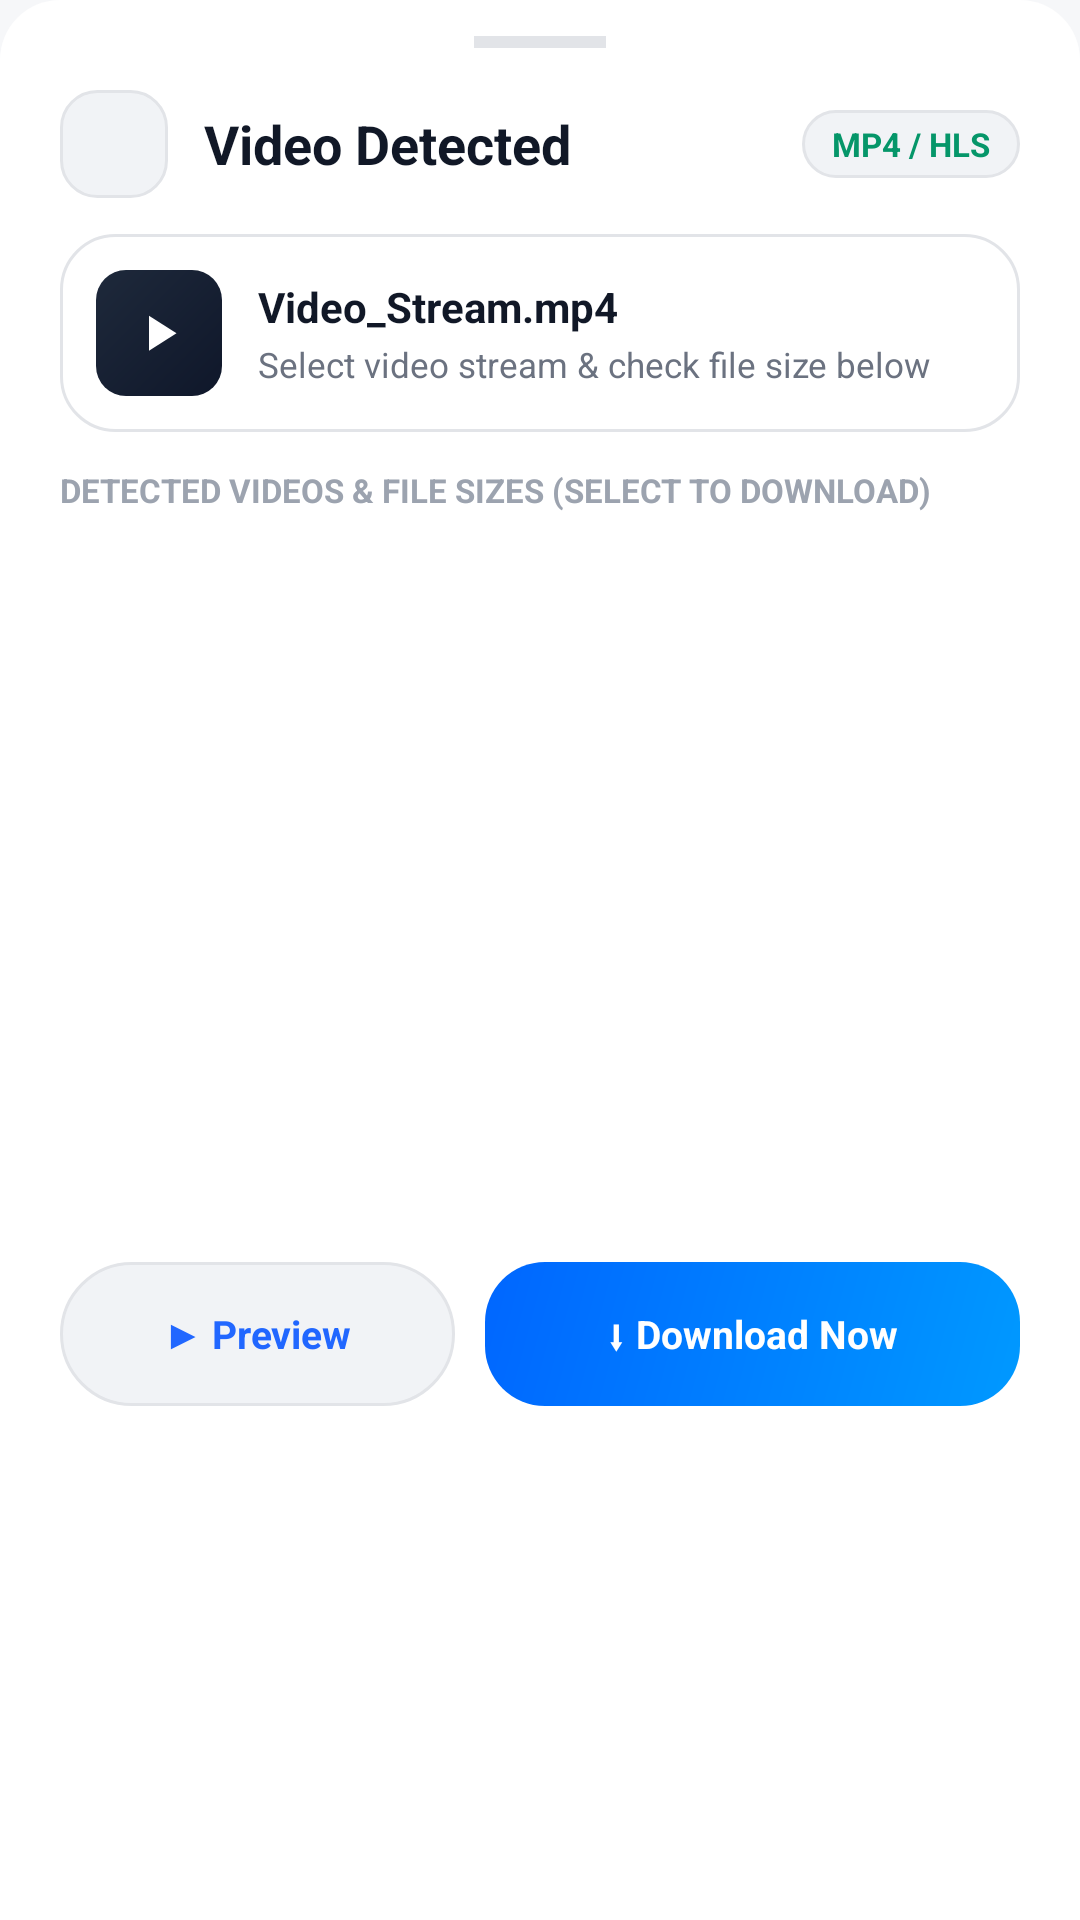

Named icons in this screenshot (1080x1920) and their centers, (x=x, y=y):
play: (x=163, y=333)
